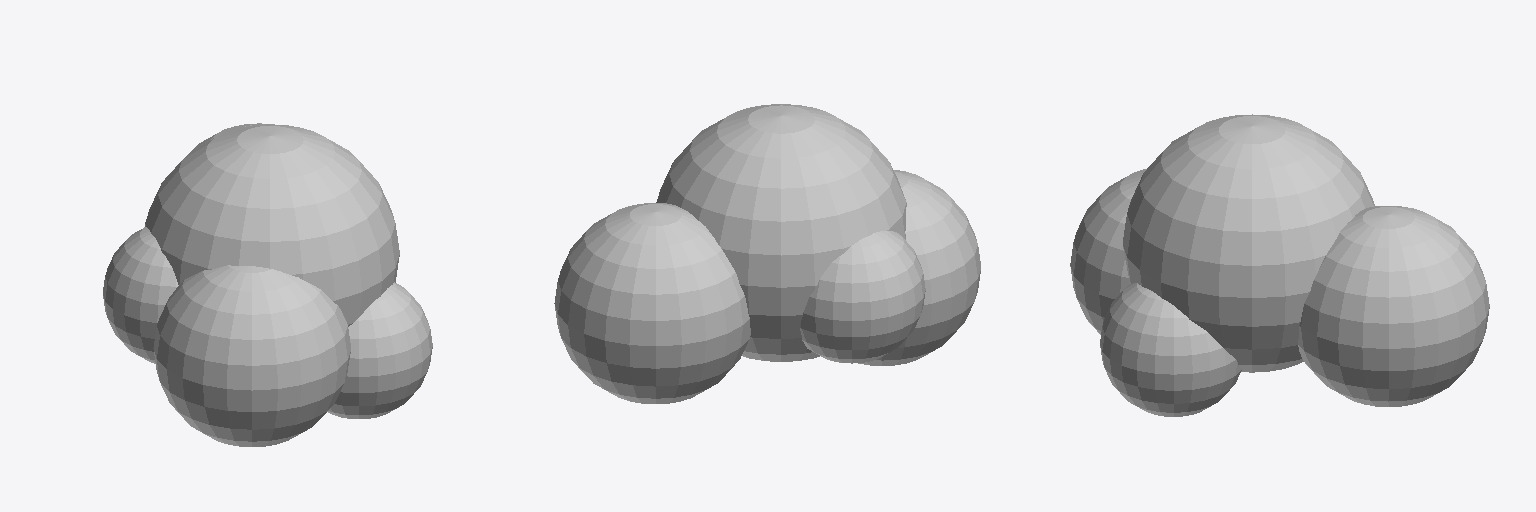
File: Cloud.obj
3 views of the same model, side by side, from view 1: azimuth 30°, elevation 25°; view 2: azimuth 150°, elevation 25°; view 3: azimuth 270°, elevation 25° (orthographic).
Visible parts, largest first — view 1: Mesh1 Sphere1 Model, Mesh3 Sphere3 Model, Mesh2 Sphere2 Model, Mesh5 Sphere5 Model; view 2: Mesh1 Sphere1 Model, Mesh4 Sphere4 Model, Mesh5 Sphere5 Model, Mesh3 Sphere3 Model; view 3: Mesh1 Sphere1 Model, Mesh4 Sphere4 Model, Mesh2 Sphere2 Model, Mesh3 Sphere3 Model.
Boxes of the visible parts, <box> form: Mesh1 Sphere1 Model: <box>145,124,399,326</box>; Mesh3 Sphere3 Model: <box>153,265,350,446</box>; Mesh2 Sphere2 Model: <box>327,282,432,418</box>; Mesh5 Sphere5 Model: <box>103,227,178,363</box>; Mesh1 Sphere1 Model: <box>656,104,906,361</box>; Mesh4 Sphere4 Model: <box>554,203,750,403</box>; Mesh5 Sphere5 Model: <box>800,231,925,363</box>; Mesh3 Sphere3 Model: <box>858,170,980,365</box>; Mesh1 Sphere1 Model: <box>1123,114,1374,372</box>; Mesh4 Sphere4 Model: <box>1298,206,1489,406</box>; Mesh2 Sphere2 Model: <box>1100,283,1241,416</box>; Mesh3 Sphere3 Model: <box>1070,169,1146,334</box>.
Bounding box in the file's own units: 27.44 × 23.41 × 34.22.